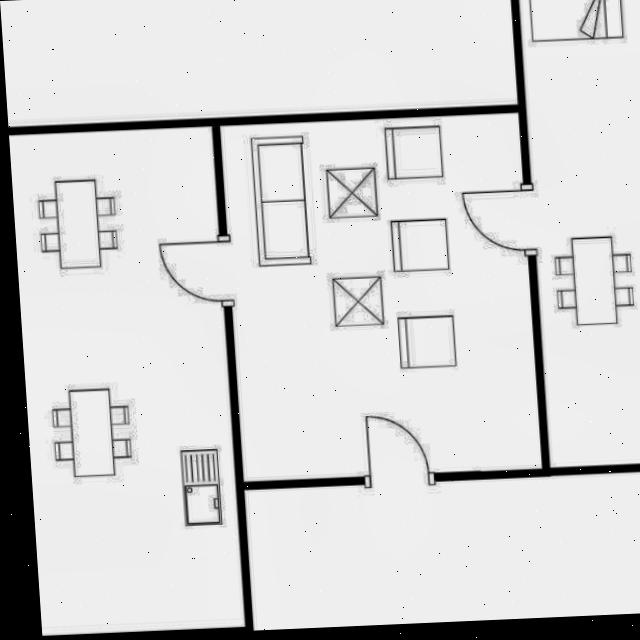room: (9, 121, 245, 639), (221, 105, 541, 486), (519, 0, 640, 467)
